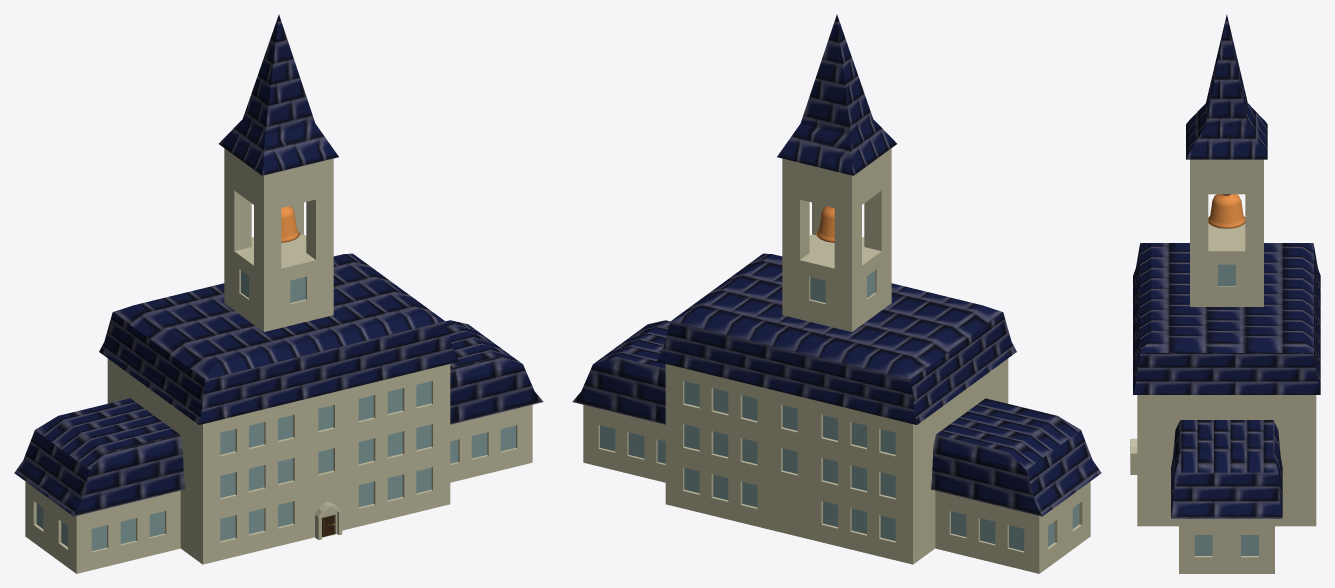
Rendered from city_hall.glb.
The picture shows the model from 3 angles, left to right: view 1: azimuth 30°, elevation 25°; view 2: azimuth 150°, elevation 25°; view 3: azimuth 270°, elevation 25°; orthographic projection. The views are drawn at different scales.
Visible parts, largest first — view 1: MainBuilding; view 2: MainBuilding; view 3: MainBuilding.
Part boxes in pixels (x1=…): MainBuilding: x1=14, y1=14, x2=543, y2=573; MainBuilding: x1=572, y1=14, x2=1101, y2=573; MainBuilding: x1=1130, y1=14, x2=1320, y2=573.
Bounding box in the file's own units: 5.7 × 5.62 × 2.13.
6 materials, 2 textured.
